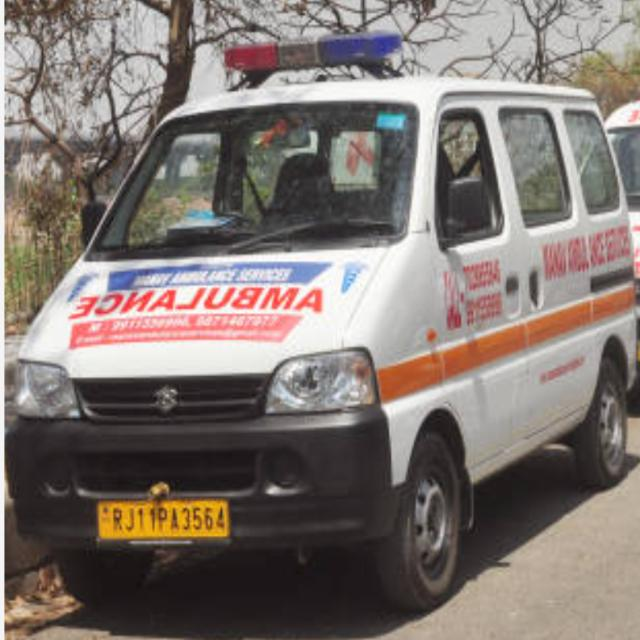emergency_vehicle: (9, 39, 616, 608)
